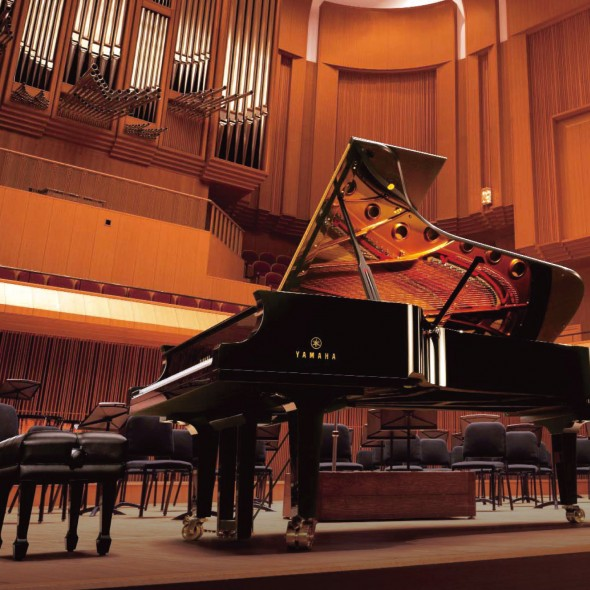GrandPiano: (111, 281, 590, 421)
